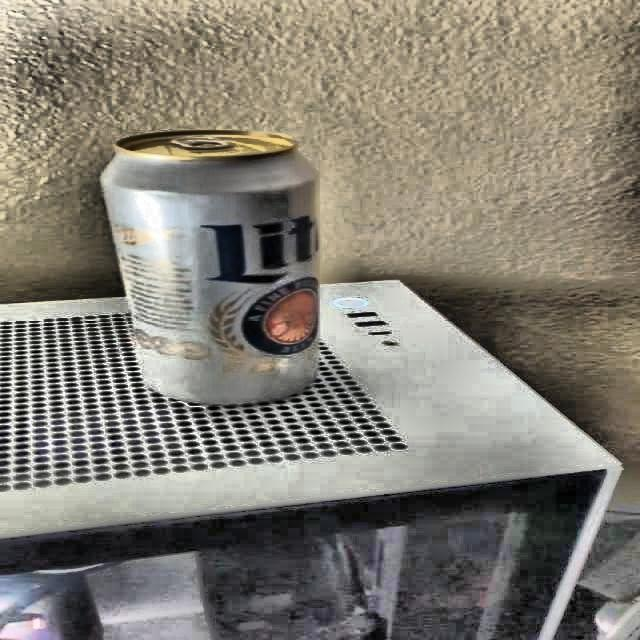can: (97, 122, 345, 421)
